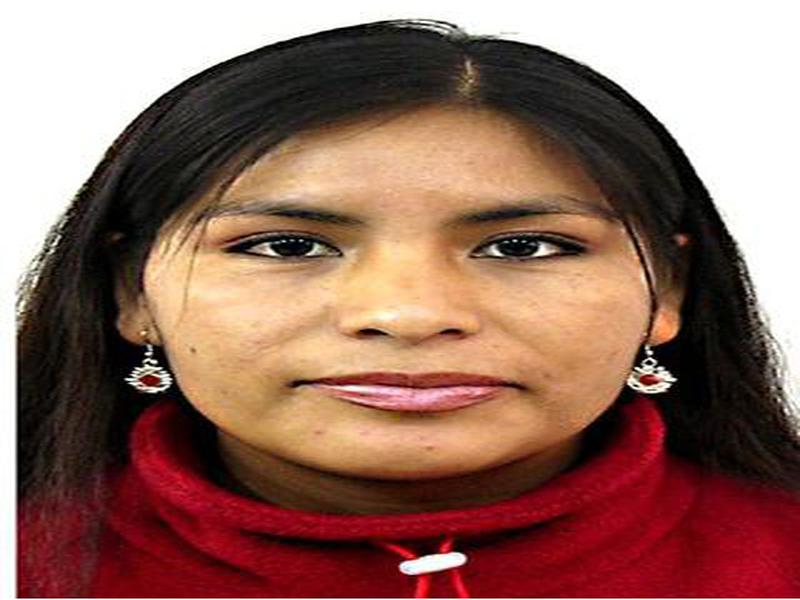without_mask: (157, 146, 653, 478)
